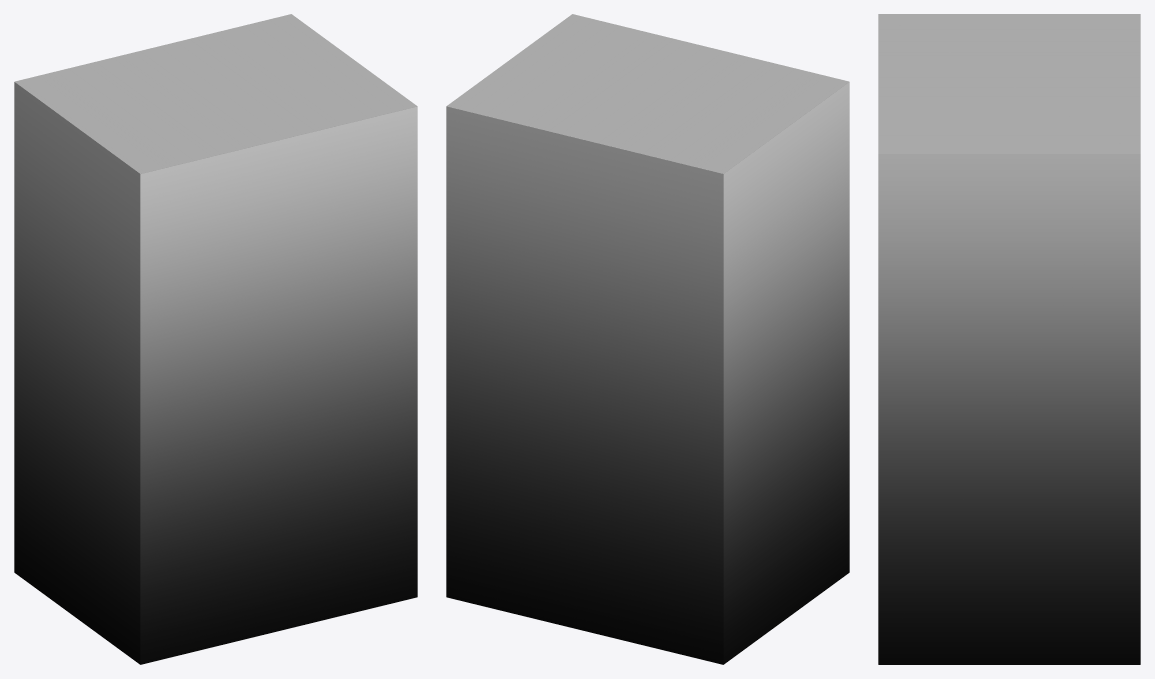
The model's file is BG_simpletower2.fbx.
The picture shows the model from 3 angles, left to right: view 1: azimuth 30°, elevation 25°; view 2: azimuth 150°, elevation 25°; view 3: azimuth 270°, elevation 25°; orthographic projection. The views are drawn at different scales.
Visible parts, largest first — view 1: BG_simpletower2; view 2: BG_simpletower2; view 3: BG_simpletower2.
Boxes of the visible parts, x1,y1,x2,y2 form: BG_simpletower2: (14, 14, 417, 664); BG_simpletower2: (446, 14, 849, 664); BG_simpletower2: (878, 14, 1140, 664).
Size of the model in its own units: 778 by 1316 by 613.
